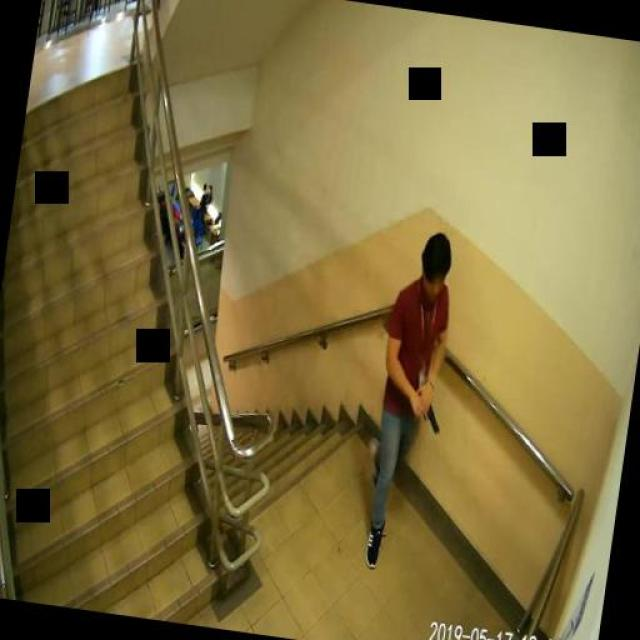gun: (412, 390, 442, 429)
